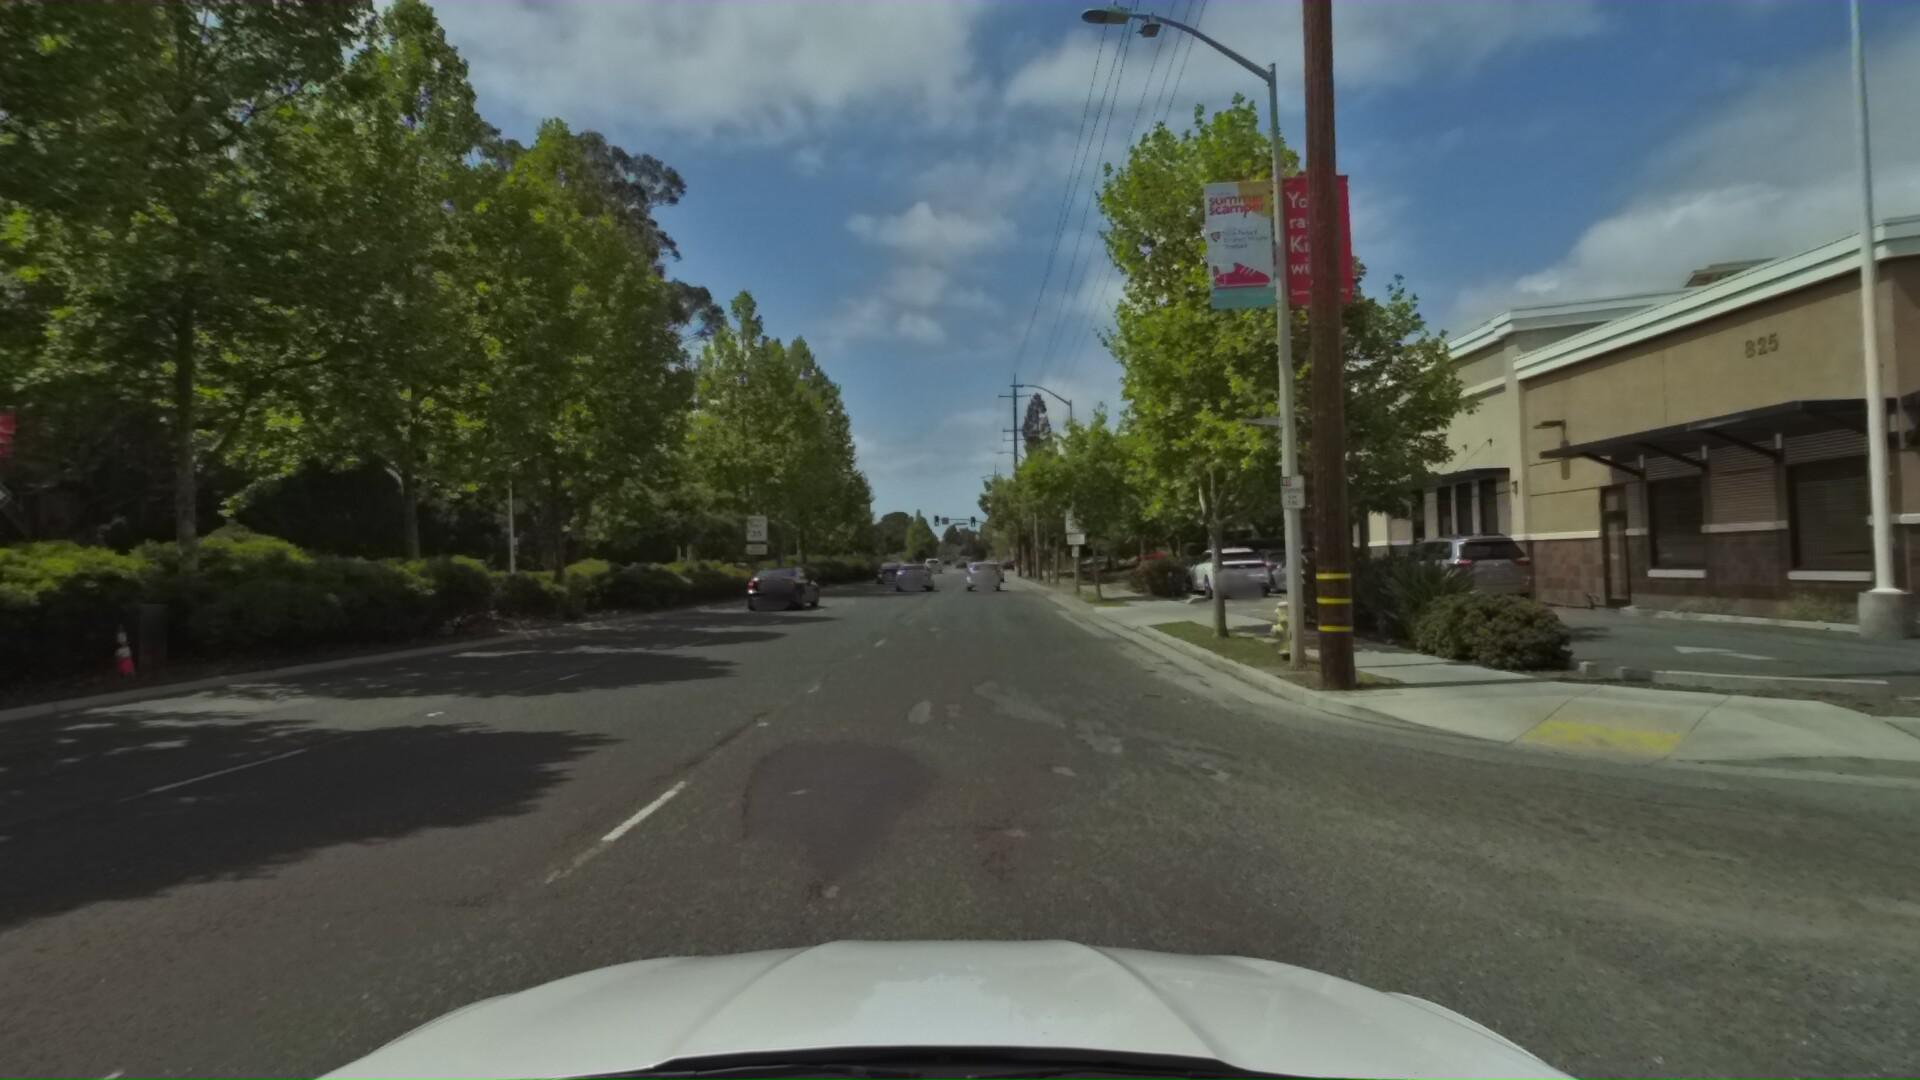car: (1386, 529, 1543, 609), (1179, 541, 1275, 597), (1265, 545, 1364, 595), (735, 560, 823, 612), (1233, 542, 1313, 591), (1167, 551, 1240, 593), (959, 556, 1001, 597), (887, 562, 934, 593), (868, 560, 905, 585), (981, 560, 1007, 583)
